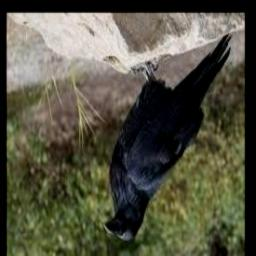Crow: (103, 32, 232, 241)
